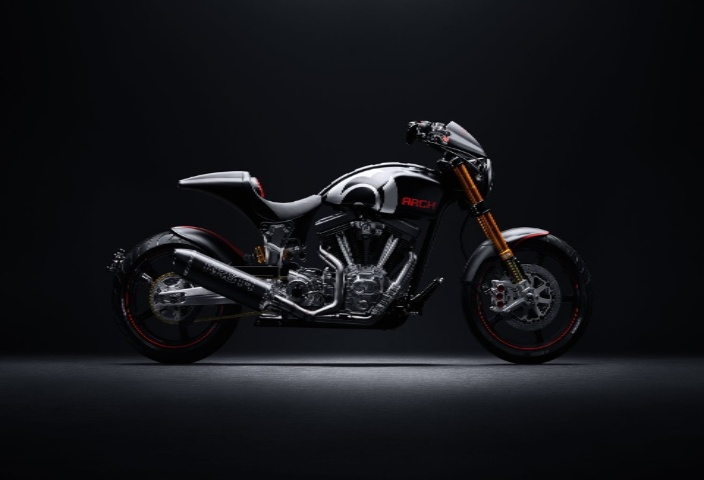motorcycle: (96, 80, 597, 366)
